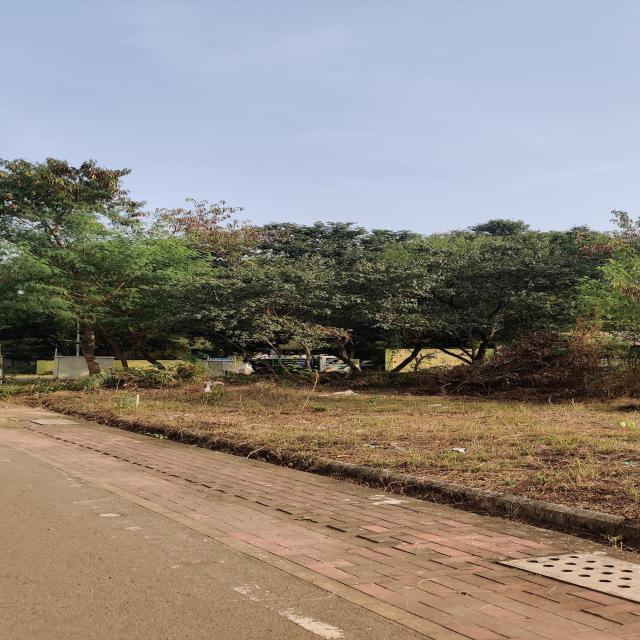Devakanchan tree: (227, 237, 582, 326)
